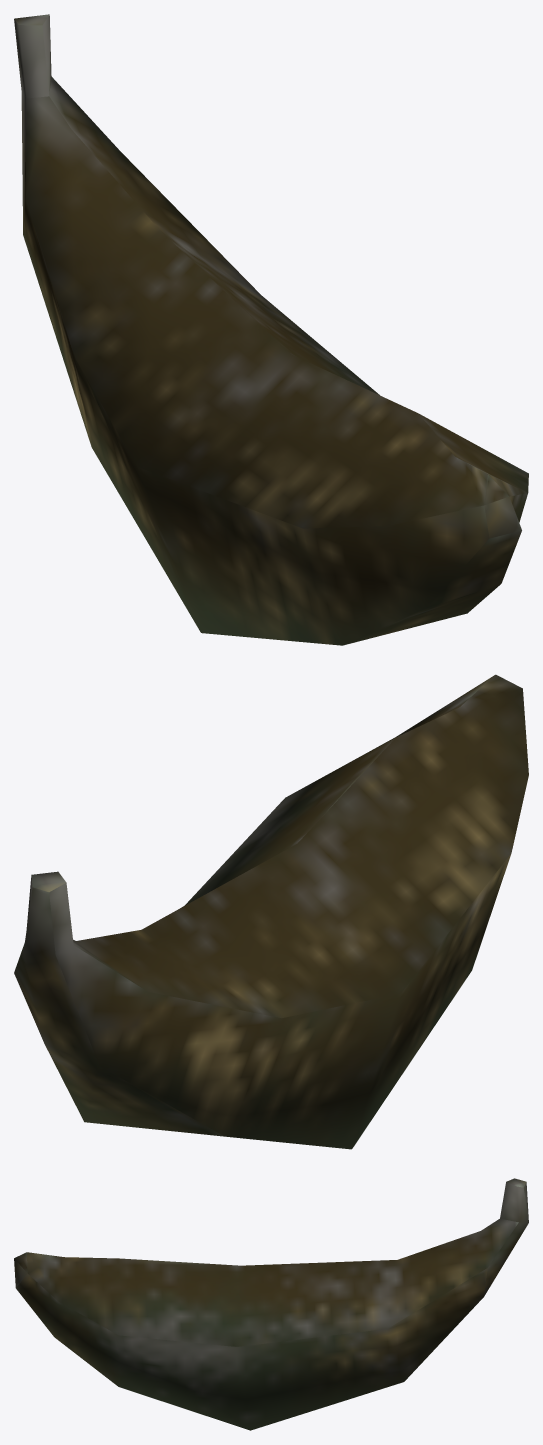
File: banana.obj
3 renders of one model, top to bottom at view 1: azimuth 30°, elevation 25°; view 2: azimuth 150°, elevation 25°; view 3: azimuth 270°, elevation 25°, orthographic. The views are drawn at different scales.
Parts seen in each view (by area): view 1: banana; view 2: banana; view 3: banana.
Boxes of the visible parts, x1,y1,x2,y2 form: banana: (14, 14, 528, 645); banana: (14, 674, 528, 1149); banana: (14, 1178, 528, 1430).
Bounding box in the file's own units: 1.29 × 2.08 × 4.18.
